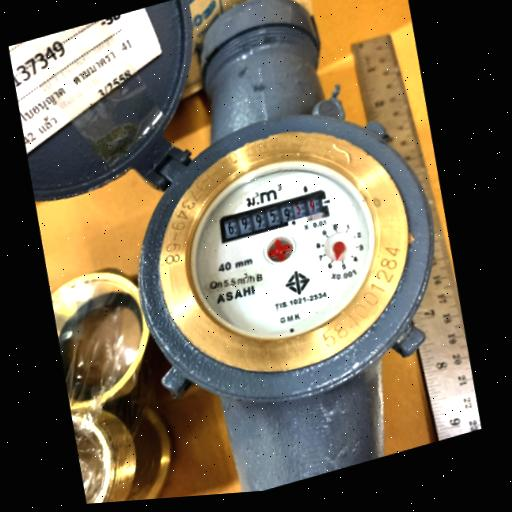5: (266, 205, 280, 227), (292, 199, 305, 218)
6: (223, 218, 238, 239)
9: (252, 208, 267, 231), (238, 213, 253, 235), (305, 194, 320, 215), (280, 202, 294, 222)
border_water_meter_number: (218, 187, 331, 245)
